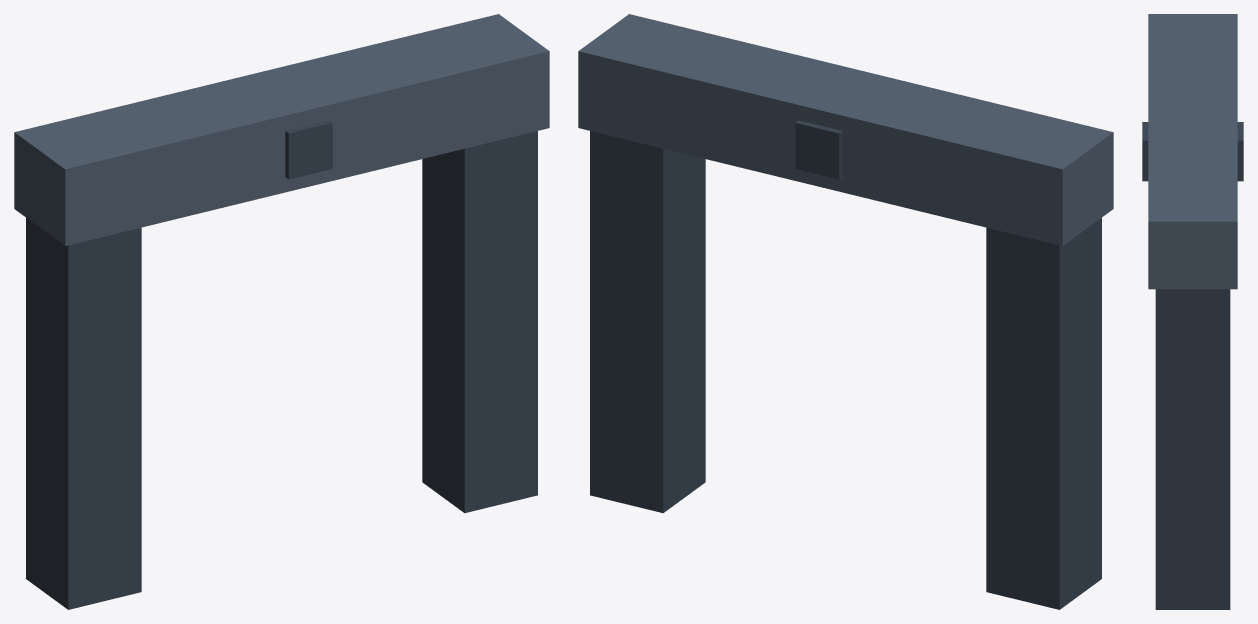
The model's file is stone_arch.glb.
3 renders of one model, left to right at view 1: azimuth 30°, elevation 25°; view 2: azimuth 150°, elevation 25°; view 3: azimuth 270°, elevation 25°, orthographic. The views are drawn at different scales.
Bounding box in the file's own units: 3.3 × 2.9 × 0.68.
